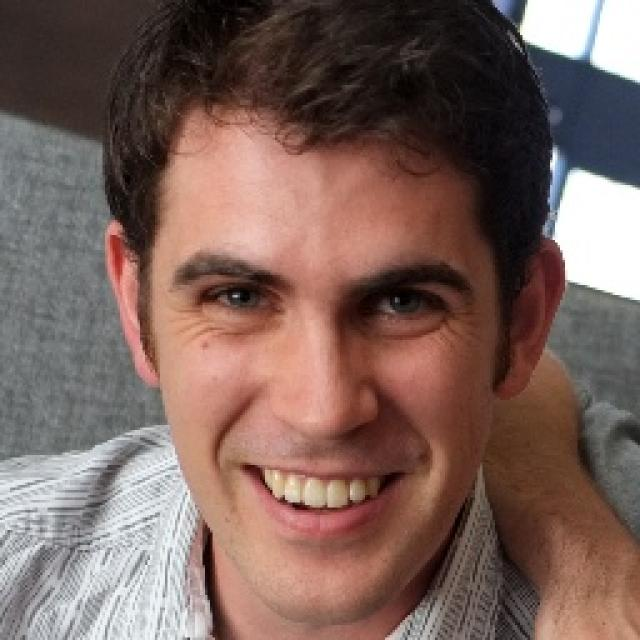earlobe: (495, 236, 566, 402), (102, 221, 162, 389)
